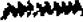Water: (1, 1, 83, 21)
